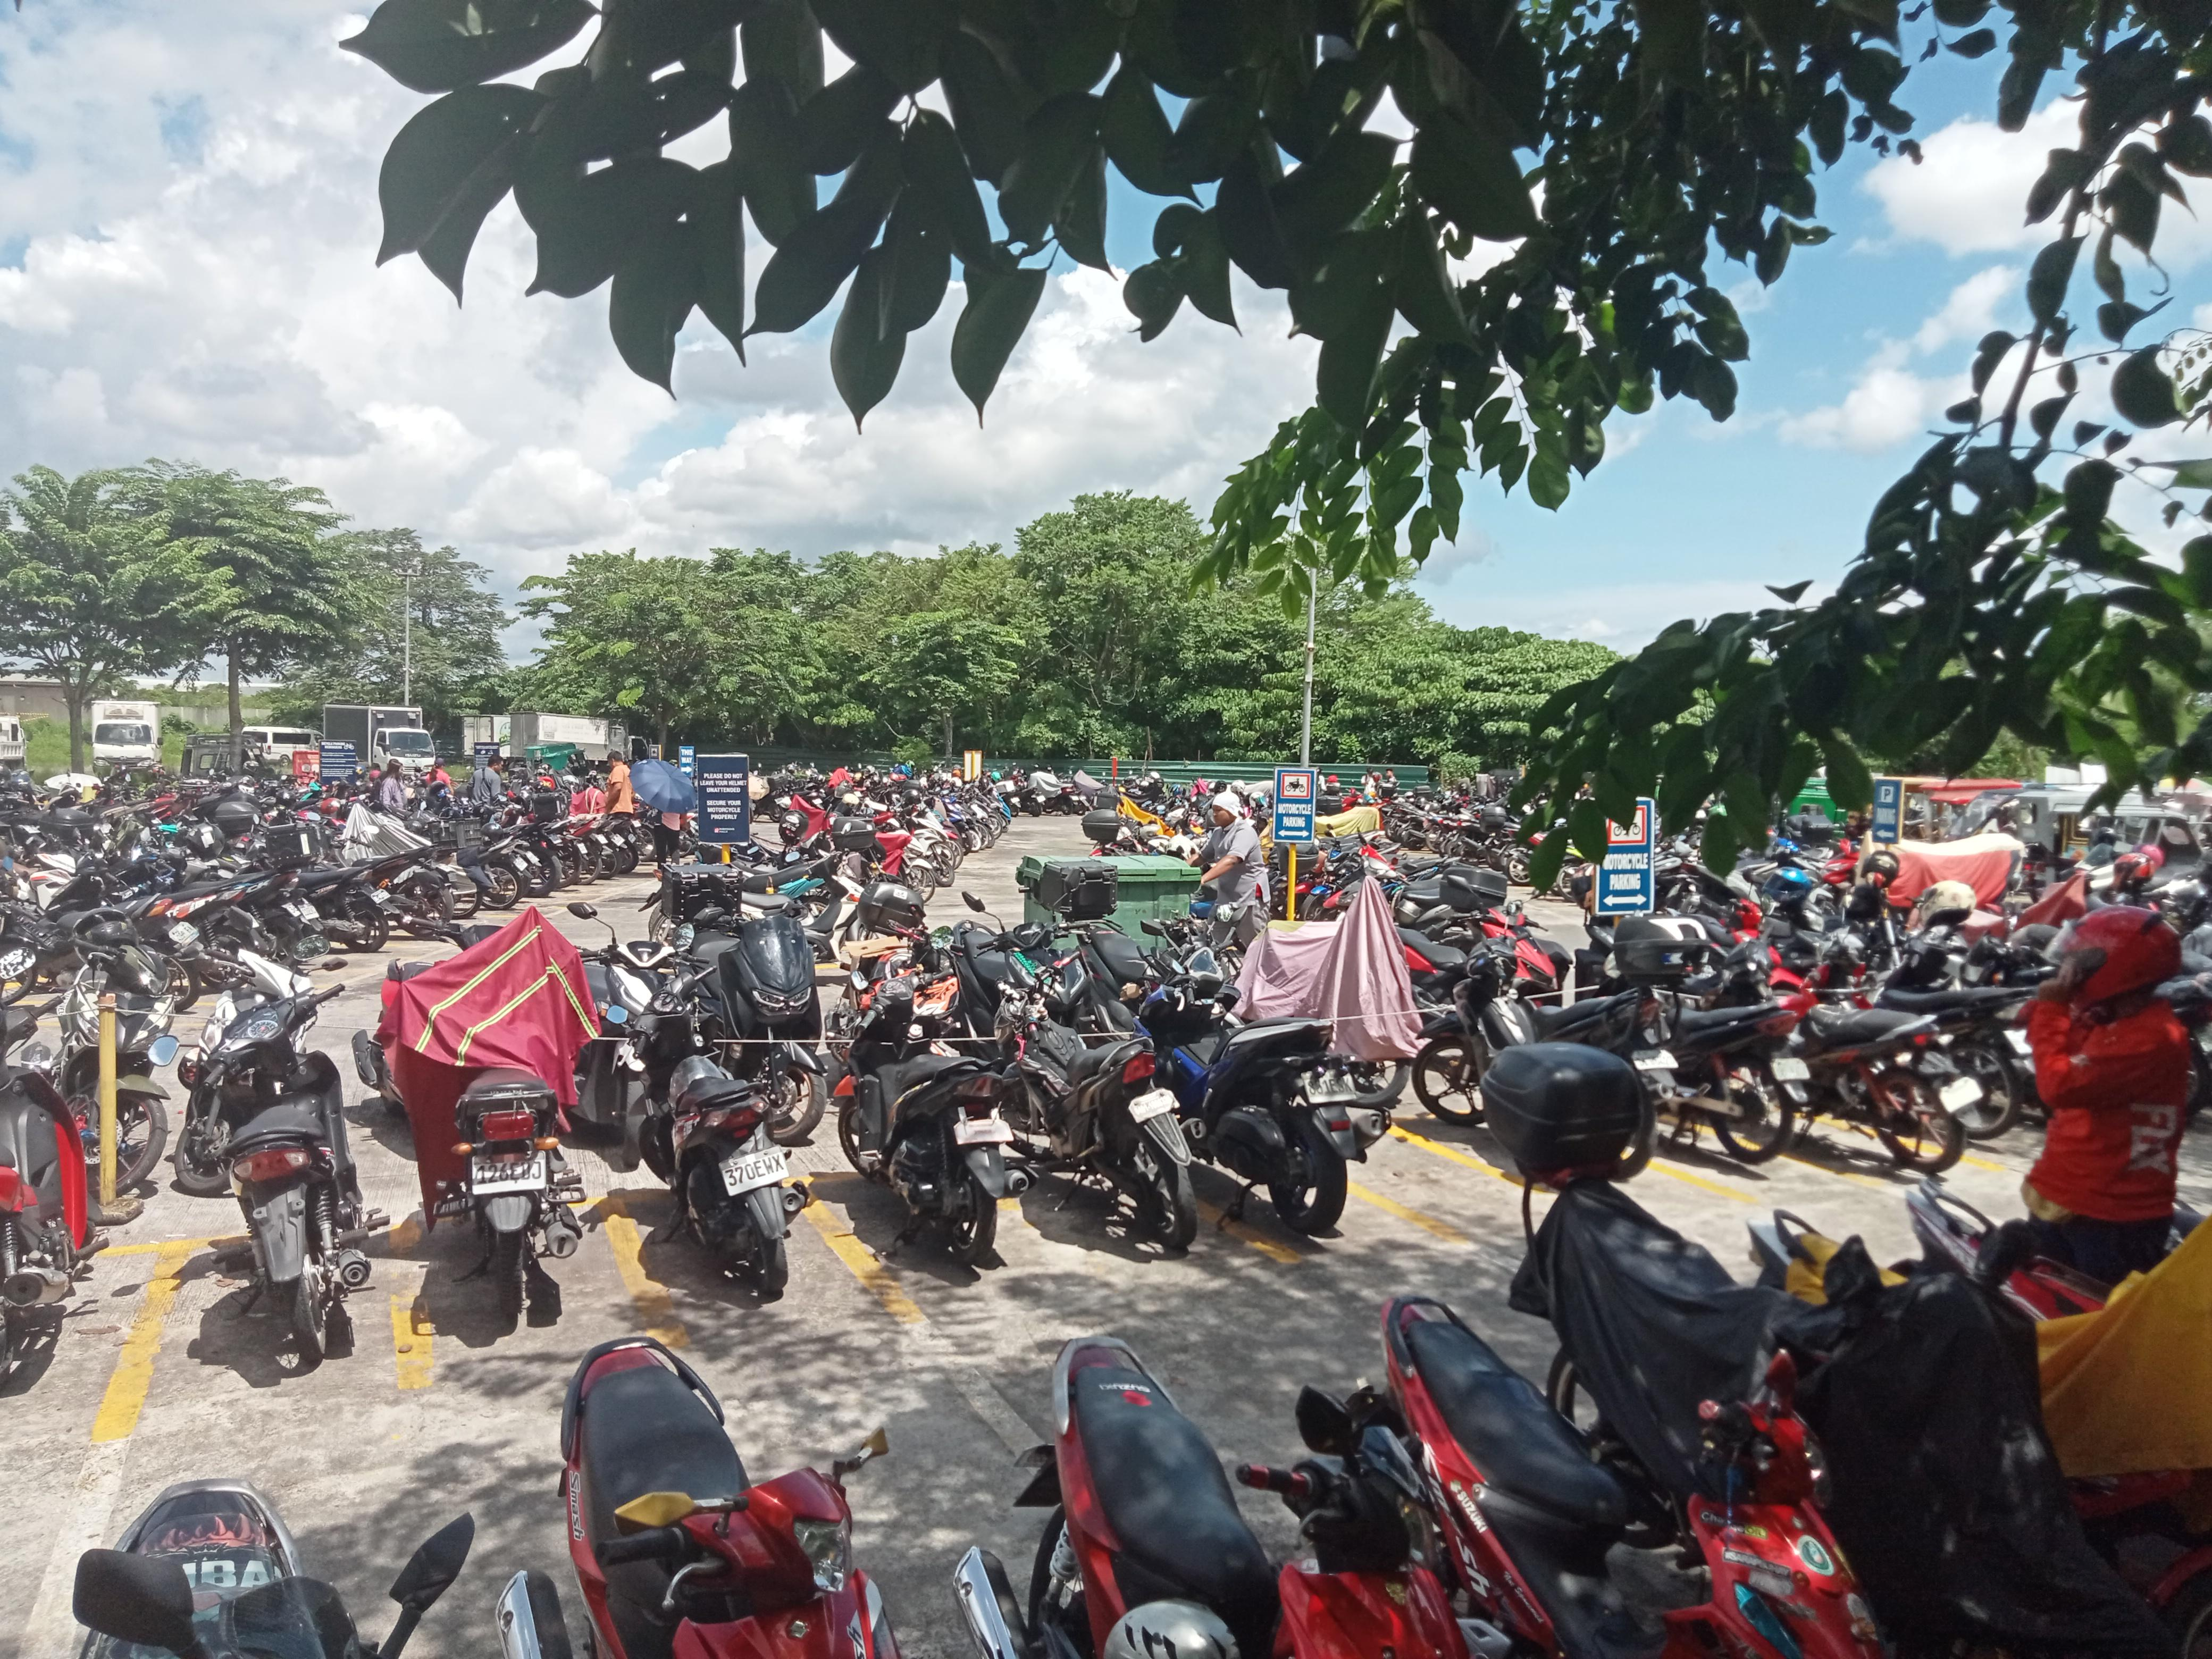occupied: (91, 1213, 435, 1441), (385, 1188, 695, 1394), (589, 1175, 934, 1356)
